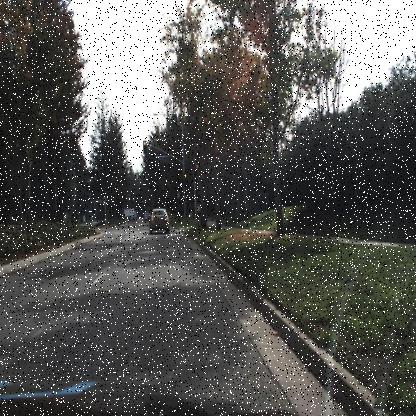car: (148, 206, 170, 234)
trafficLight-Red: (193, 161, 199, 175), (182, 172, 187, 188), (142, 140, 147, 153)
truck: (123, 206, 138, 221)
